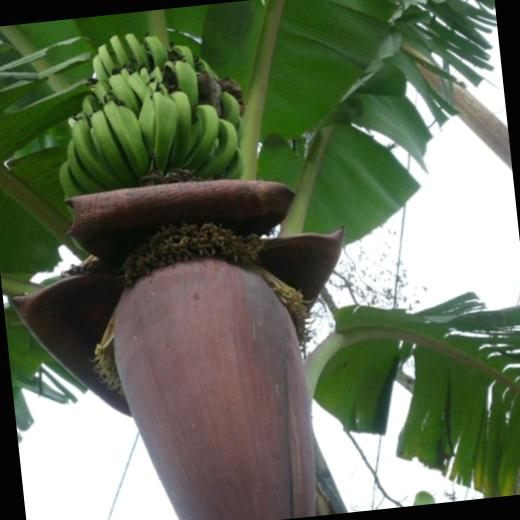Banana: (49, 20, 250, 221), (179, 99, 223, 166)
